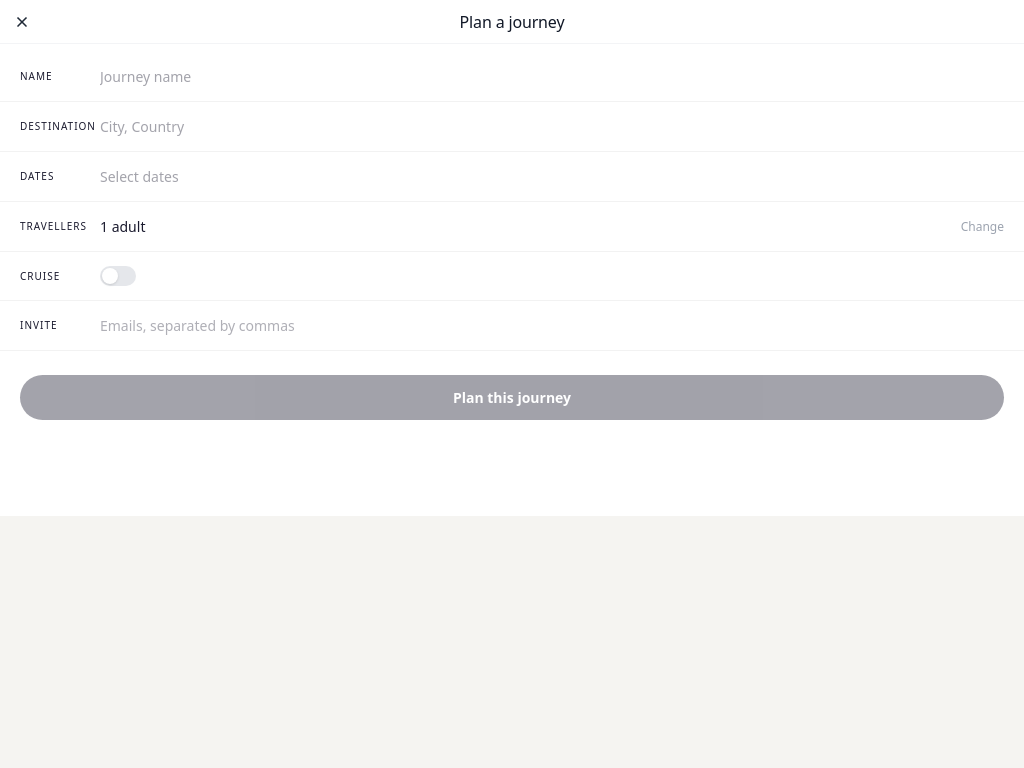
it: Plan a journey › a swipe on the month changes it, like the arrows (6 Oct 2026)
Click the button "Dates Select dates" at (37, 176), box [0,152,1023,202]
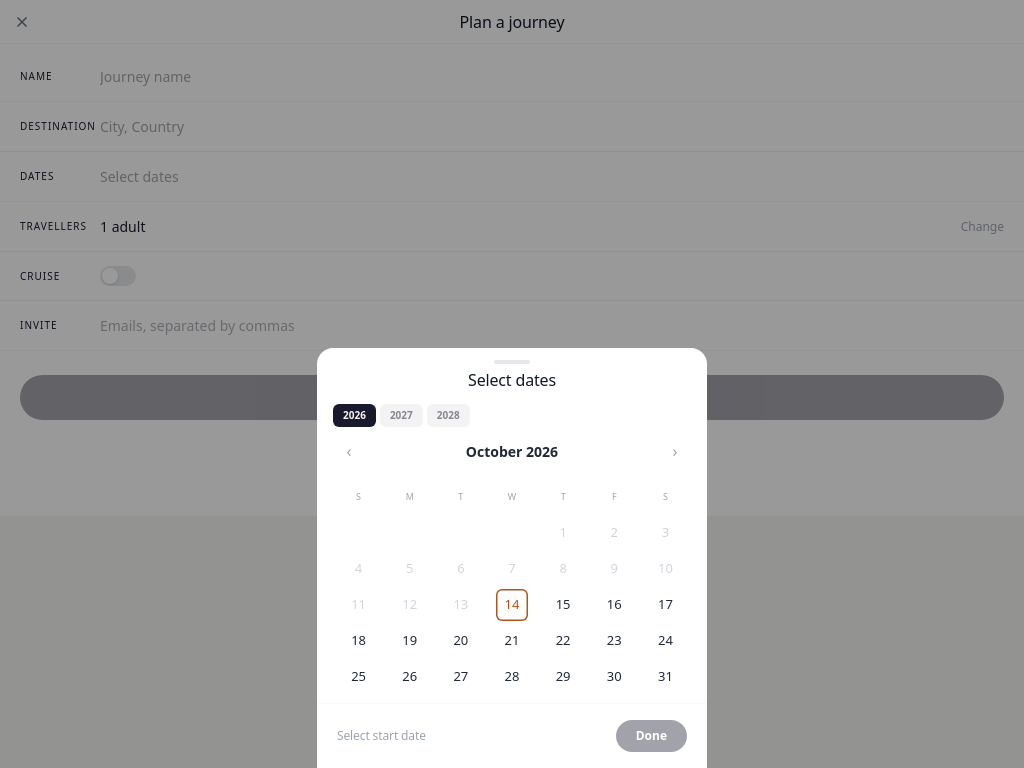
Press the mouse on the element with test id "month-grid" at (512, 605), box [333,515,691,695]
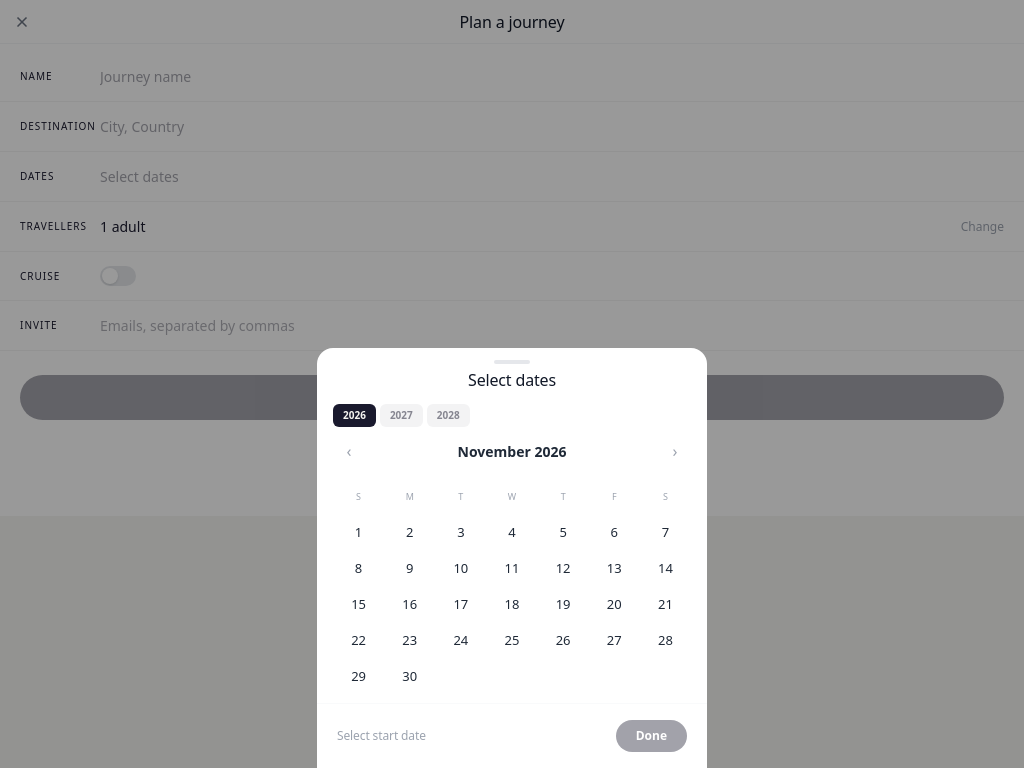
Press the mouse on the element with test id "month-grid" at (512, 605), box [333,515,691,695]
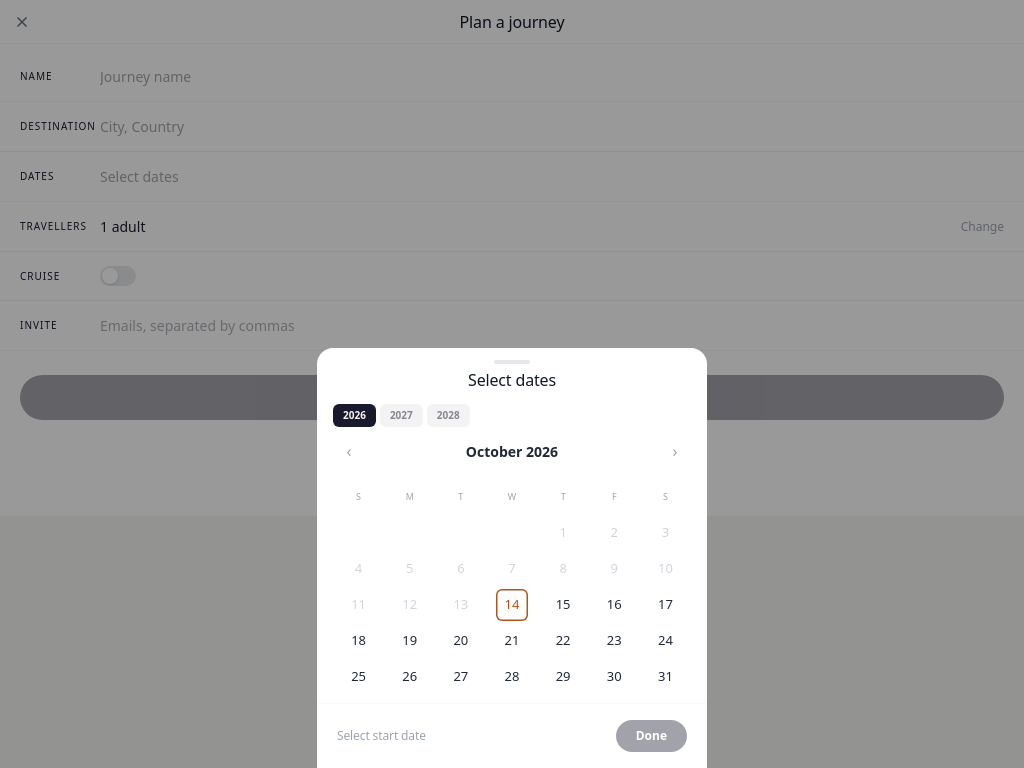
expect the text "October 2026" is shown: met, box [466,440,558,462]
